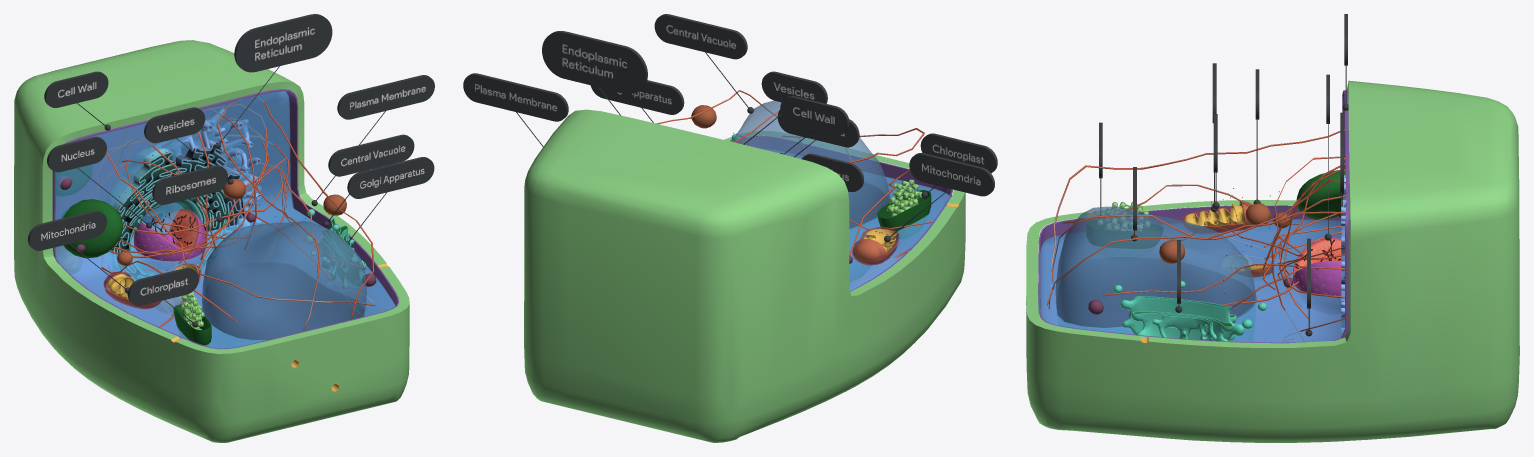
Rendered from vegetal.glb.
3 renders of one model, left to right at view 1: azimuth 30°, elevation 25°; view 2: azimuth 150°, elevation 25°; view 3: azimuth 270°, elevation 25°, orthographic. The views are drawn at different scales.
Visible parts, largest first — view 1: opaque_2, transparent_0, Labels_1; view 2: opaque_2, Labels_1, transparent_0; view 3: opaque_2, transparent_0, Labels_1.
Part boxes in pixels (x1,y1,x2,y2): opaque_2: (14, 40, 409, 442); transparent_0: (55, 91, 395, 385); Labels_1: (28, 14, 434, 327); opaque_2: (524, 90, 965, 442); Labels_1: (463, 14, 997, 242); transparent_0: (730, 100, 950, 291); opaque_2: (1026, 80, 1519, 442); transparent_0: (1038, 200, 1344, 342); Labels_1: (1098, 14, 1348, 336).
Size of the model in its own units: 0.6645 by 0.3977 by 0.5701.
3 materials, 3 textured.
